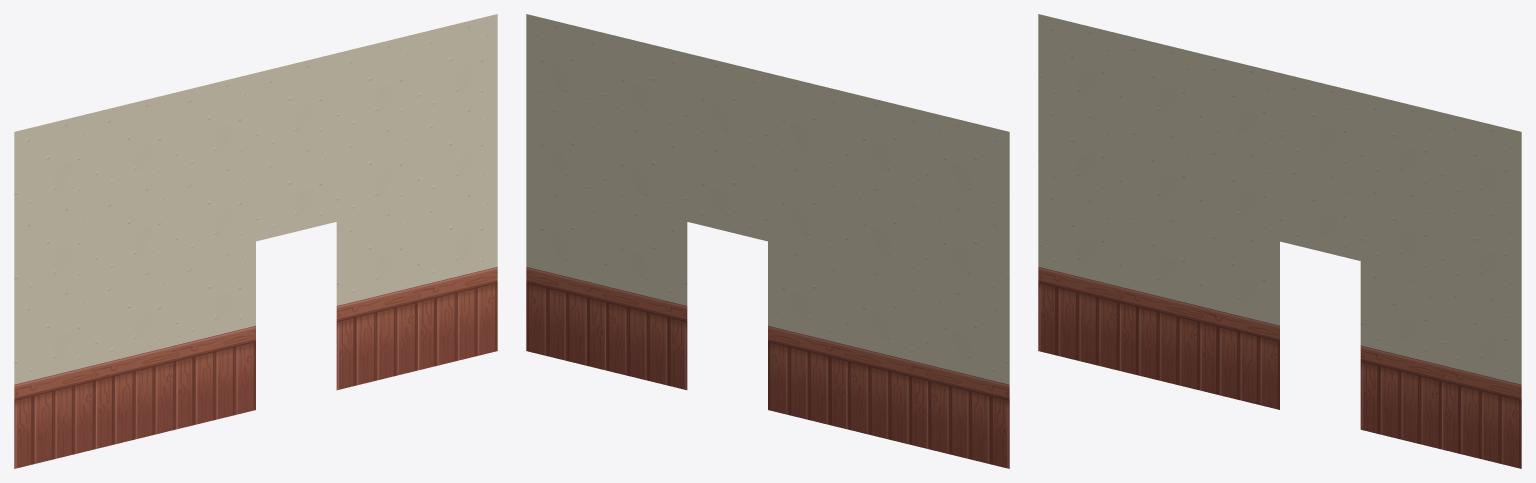
Rendered from 제제방_문_m.FBX.
The picture shows the model from 3 angles, left to right: view 1: azimuth 30°, elevation 25°; view 2: azimuth 150°, elevation 25°; view 3: azimuth 330°, elevation 25°; orthographic projection.
Visible parts, largest first — view 1: Object1816; view 2: Object1816; view 3: Object1816.
Boxes of the visible parts, box(x1,y1,x2,y2) form: Object1816: box(14, 14, 497, 468); Object1816: box(526, 14, 1009, 468); Object1816: box(1038, 14, 1521, 468).
Bounding box in the file's own units: 60 × 40 × 7.63e-06.
